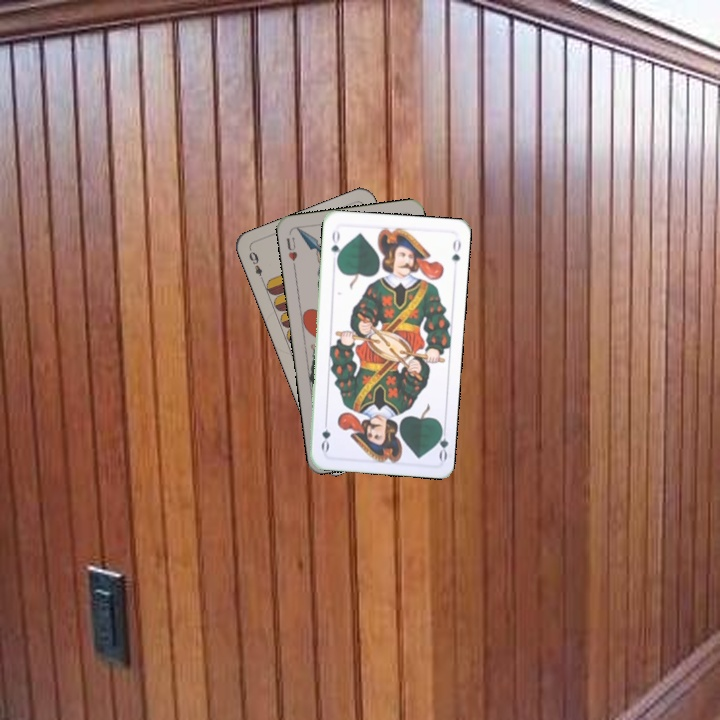E9: (245, 247, 267, 285)
GO: (431, 422, 451, 462), (327, 226, 344, 266)
HU: (282, 233, 300, 271)
